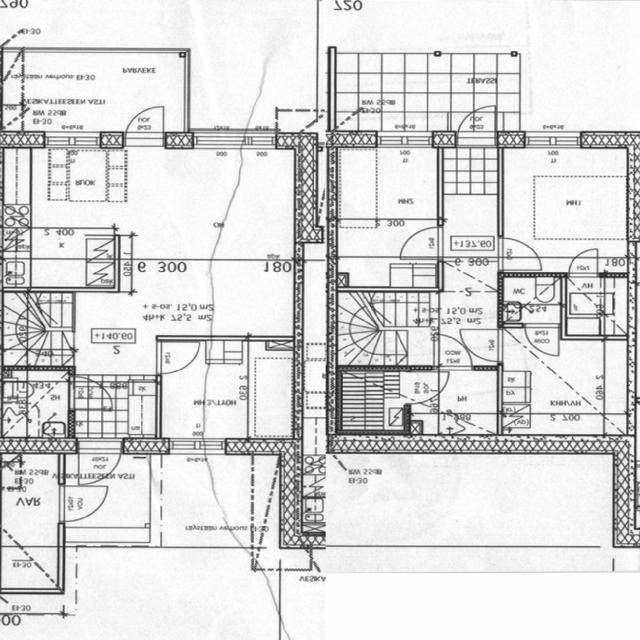door: (78, 438, 120, 490), (124, 100, 162, 148), (458, 100, 496, 147), (59, 485, 106, 521), (68, 377, 114, 409), (433, 333, 472, 370), (404, 371, 449, 403), (460, 329, 502, 362), (498, 238, 540, 270), (400, 227, 442, 258), (156, 341, 198, 372), (525, 324, 559, 356), (570, 249, 598, 277)
